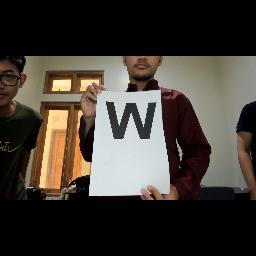w: (104, 98, 160, 144)
